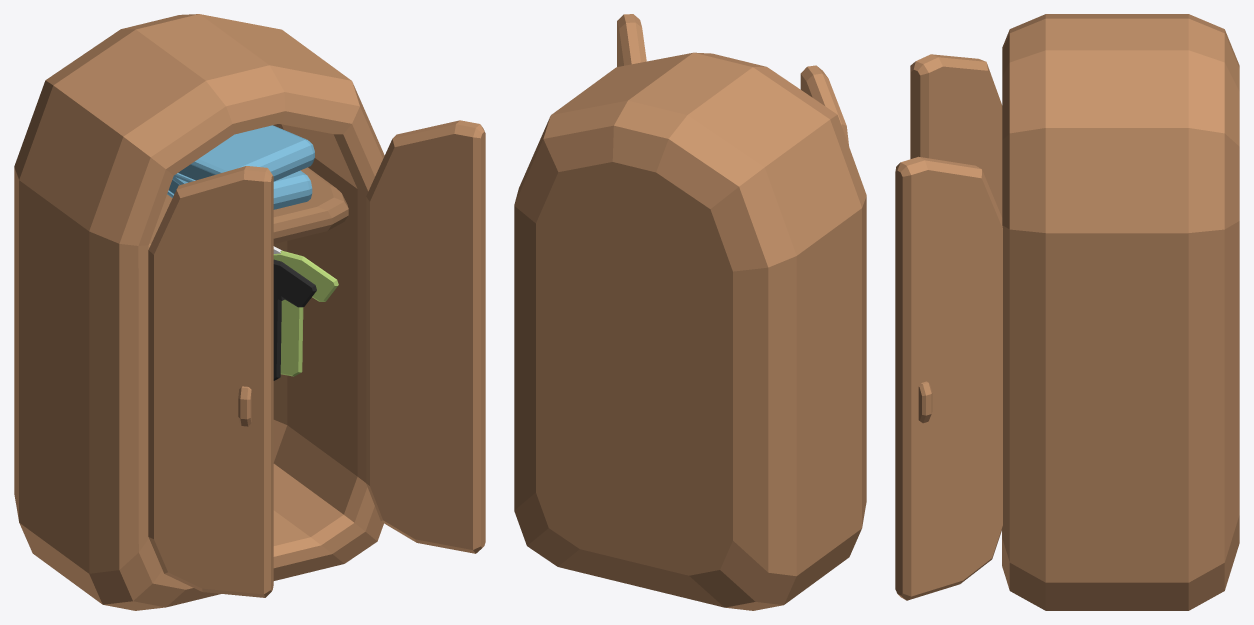
File: Wardrobe.fbx
3 renders of one model, left to right at view 1: azimuth 30°, elevation 25°; view 2: azimuth 150°, elevation 25°; view 3: azimuth 270°, elevation 25°, orthographic. The views are drawn at different scales.
Visible parts, largest first — view 1: Wardrobe, Door Left, DoorRight; view 2: Wardrobe, DoorRight, Door Left; view 3: Wardrobe, DoorRight, Door Left.
Part boxes in pixels (left/top/right/bottom): Wardrobe: left=14, top=14, right=384, bottom=610; Door Left: left=148, top=166, right=273, bottom=597; DoorRight: left=366, top=120, right=485, bottom=553; Wardrobe: left=514, top=52, right=866, bottom=610; DoorRight: left=617, top=14, right=646, bottom=66; Door Left: left=800, top=65, right=848, bottom=145; Wardrobe: left=1002, top=14, right=1239, bottom=610; DoorRight: left=895, top=156, right=1002, bottom=600; Door Left: left=910, top=54, right=1002, bottom=217.
Size of the model in its own units: 1.54 by 2.3 by 1.37.
1 material, 1 textured.
